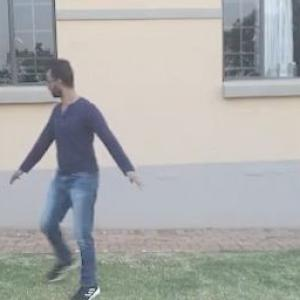land: (3, 50, 143, 292)
